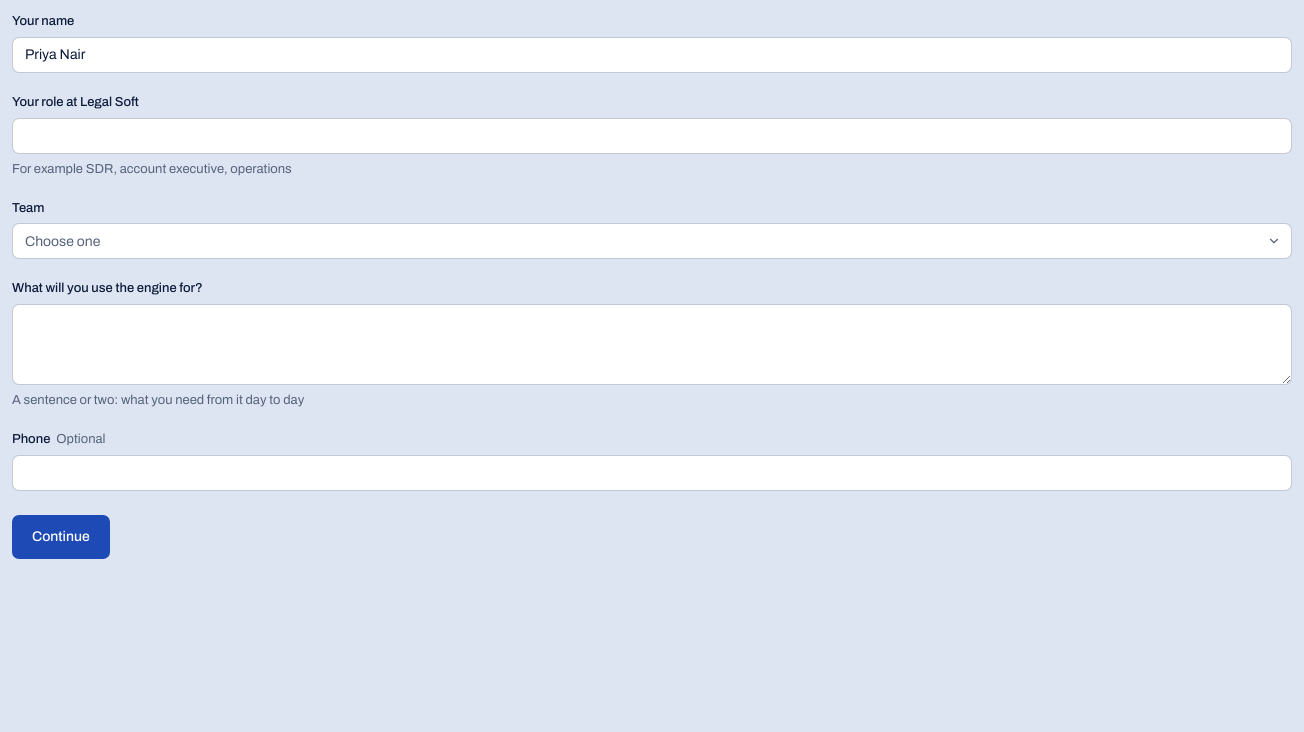
Test case: OnboardingForm › names each blank required field before asking the engine
Click the button "Continue": click(61, 537) [12,515,110,559]
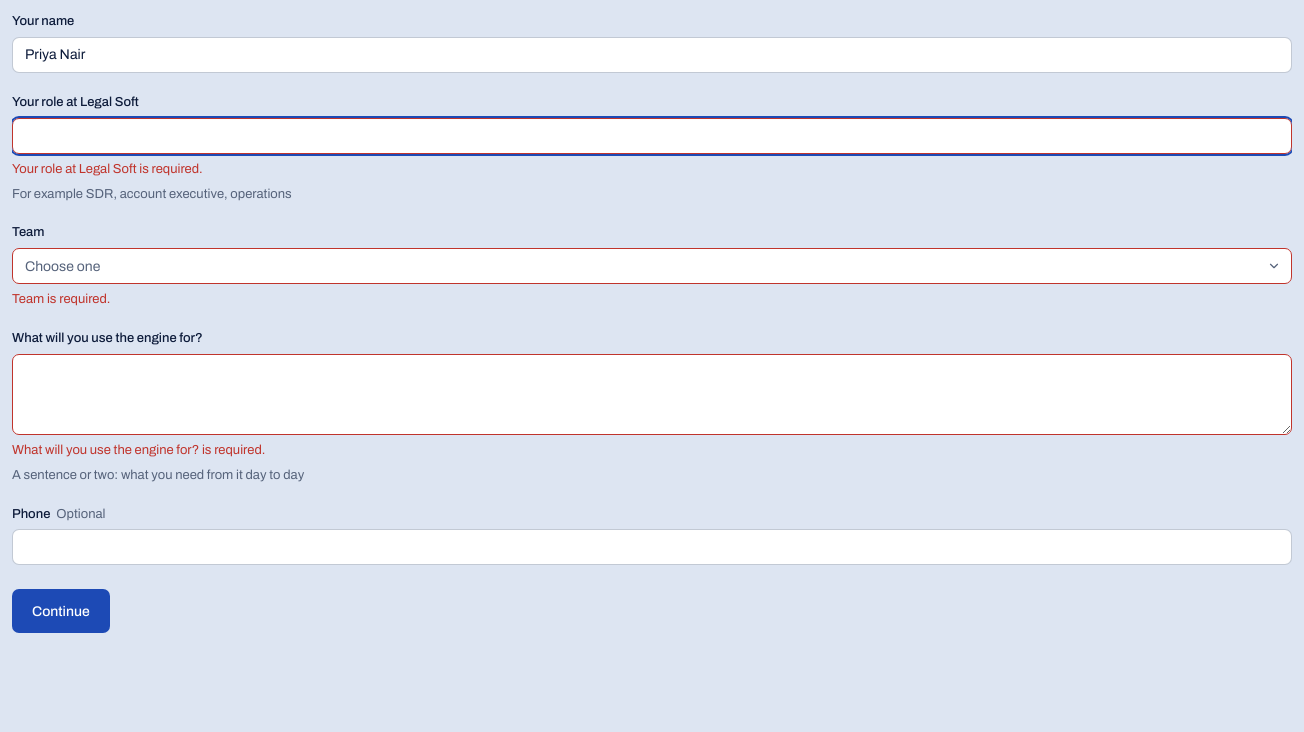
Expected: the text "Your role at Legal Soft is required." is shown, [12,162,203,176]
Expected: the text "Team is required." is shown, [12,292,110,306]
Expected: the text "What will you use the engine for? is required." is shown, [12,443,265,457]
